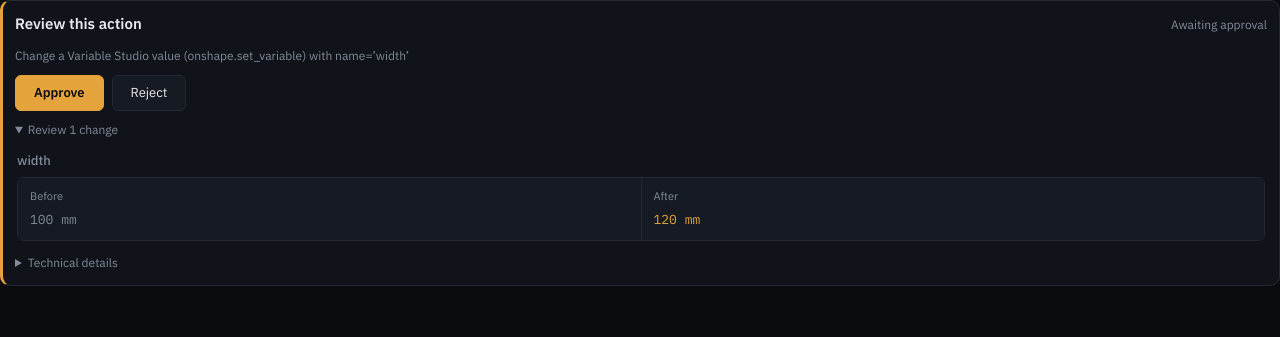
Test: ConfirmationCard › shows the reason a decision was refused, not a generic apology
Click the button "Approve": (59, 93) top-left (15, 75), bottom-right (104, 111)
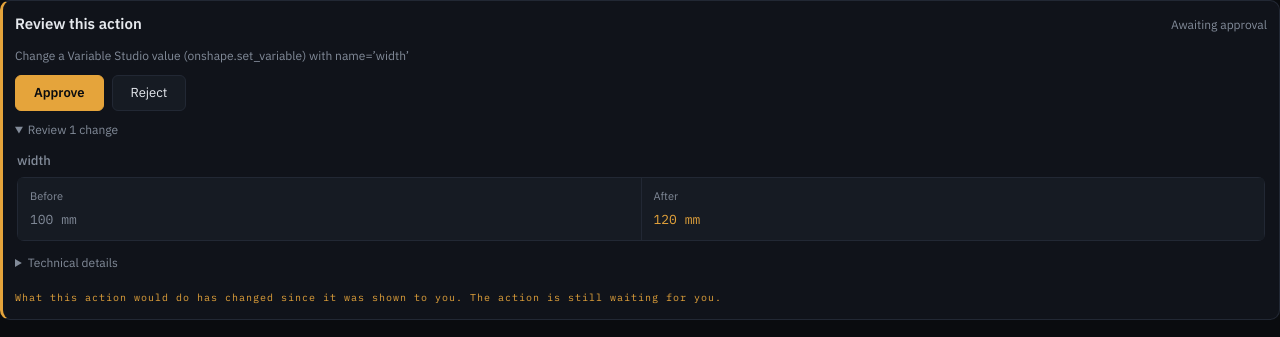
Expected: the text "has changed since it was shown" is shown, top-left (15, 291), bottom-right (463, 304)
